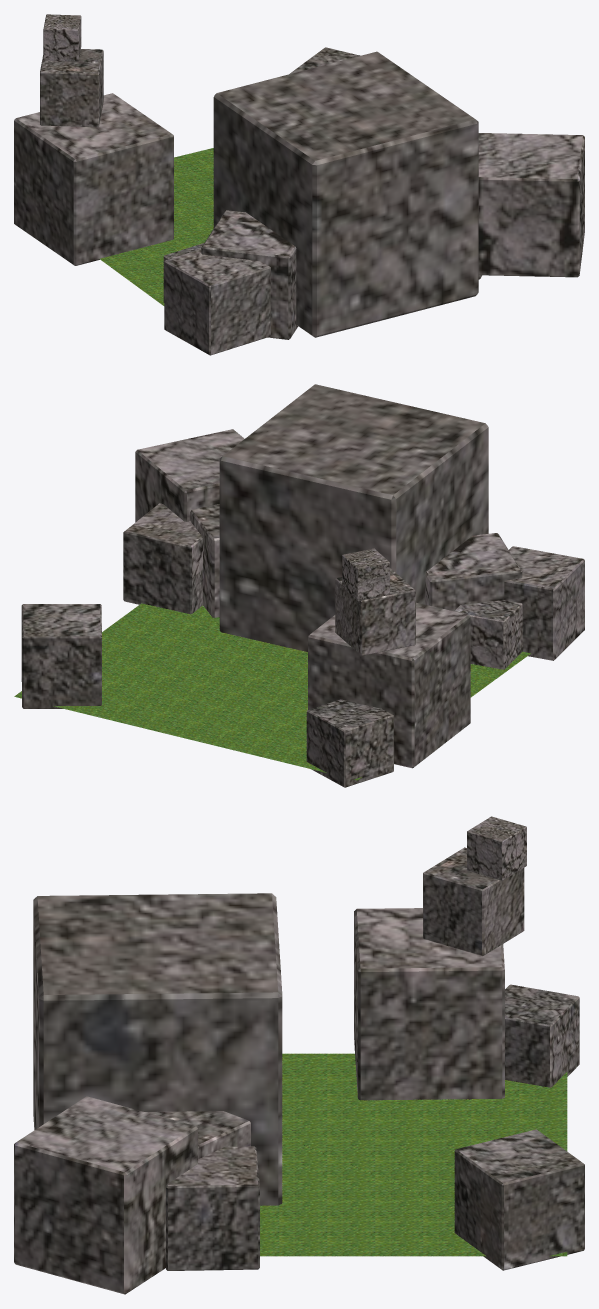
The model's file is end.FBX.
3 views of the same model, one above another, from view 1: azimuth 30°, elevation 25°; view 2: azimuth 150°, elevation 25°; view 3: azimuth 270°, elevation 25° (orthographic). The views are drawn at different scales.
Visible parts, largest first — view 1: Cube.026, Cube.017, Cube.021, Cube.022, end, Cube.028, Cube.024, Cube.025, Cube.014; view 2: Cube.026, end, Cube.017, Cube.014, Cube.020, Cube.022, Cube.021, Cube.016, Cube.028, Cube.024, Cube.023, Cube.027 (+1 smaller); view 3: Cube.026, end, Cube.021, Cube.017, Cube.014, Cube.020, Cube.024, Cube.016, Cube.025, Cube.027.
Boxes of the visible parts, x1,y1,x2,y2 form: Cube.026: (213,51,478,337); Cube.017: (14,93,173,265); Cube.021: (478,133,584,277); Cube.022: (164,249,270,355); end: (100,148,213,305); Cube.028: (201,210,298,339); Cube.024: (40,49,103,127); Cube.025: (43,14,81,61); Cube.014: (289,47,360,74); Cube.026: (219,384,488,651); end: (14,603,530,780); Cube.017: (308,602,470,768); Cube.014: (21,604,101,708); Cube.020: (123,503,202,614); Cube.022: (504,546,584,660); Cube.021: (135,429,244,522); Cube.016: (306,699,393,787); Cube.028: (425,533,522,611); Cube.024: (335,568,415,655); Cube.023: (454,600,522,669); Cube.027: (190,504,219,617); Cube.026: (33,893,282,1205); end: (260,1053,567,1256); Cube.021: (14,1096,197,1294); Cube.017: (354,908,504,1100); Cube.014: (454,1129,584,1270); Cube.020: (166,1146,259,1270); Cube.024: (423,847,524,955); Cube.016: (505,984,579,1087); Cube.025: (467,816,526,880); Cube.027: (145,1111,250,1159).
Bounding box in the file's own units: 1261 × 1190 × 574.
Materials: 2 (2 with a texture image).
